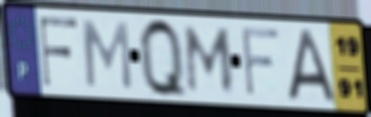A: (286, 27, 338, 103)
F: (239, 25, 283, 100), (37, 14, 80, 89)
M: (80, 18, 135, 93), (184, 23, 236, 95)
Q: (136, 15, 190, 103)
